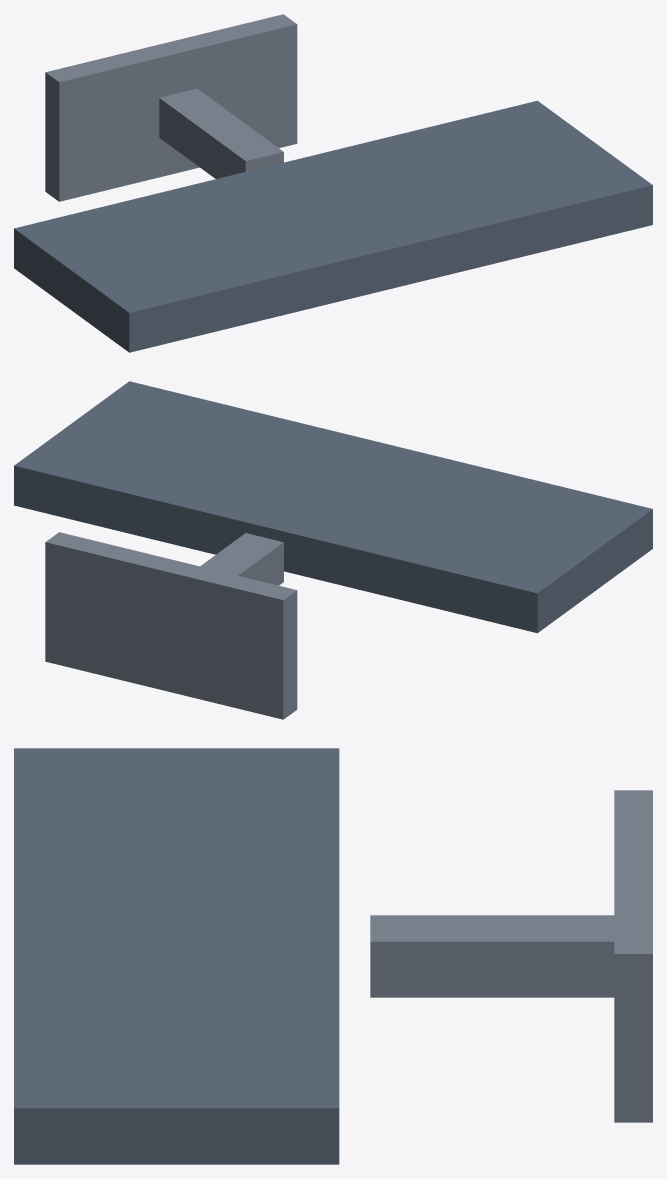
Rendered from ultrawide_monitor.glb.
3 renders of one model, top to bottom at view 1: azimuth 30°, elevation 25°; view 2: azimuth 150°, elevation 25°; view 3: azimuth 270°, elevation 25°, orthographic. The views are drawn at different scales.
Visible parts, largest first — view 1: screen_0, base_3, stand_2; view 2: screen_0, base_3, stand_2; view 3: screen_0, stand_2, base_3.
Part boxes in pixels (x1,y1,x2,y2): screen_0: (14, 100, 652, 352); base_3: (45, 14, 297, 201); stand_2: (159, 88, 283, 178); screen_0: (14, 381, 652, 633); base_3: (45, 532, 297, 719); stand_2: (200, 533, 283, 585); screen_0: (14, 748, 339, 1164); stand_2: (370, 915, 614, 997); base_3: (614, 790, 652, 1122).
Bounding box in the file's own units: 1.1 × 0.24 × 0.825.
